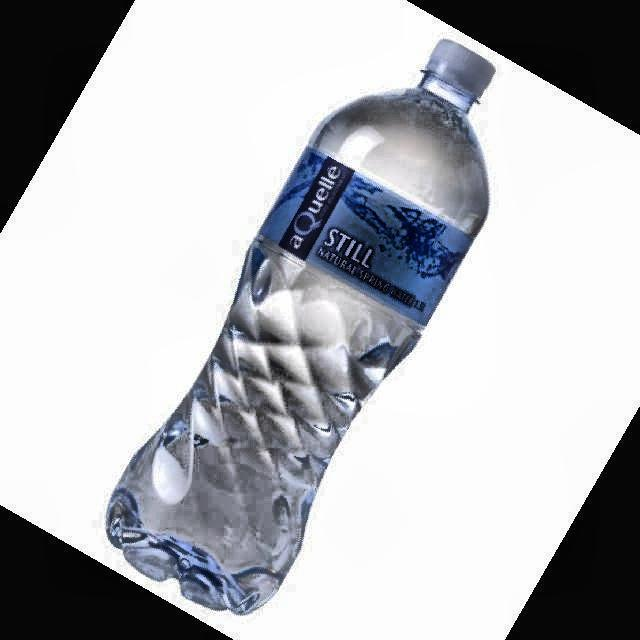plastic: (106, 40, 495, 613)
